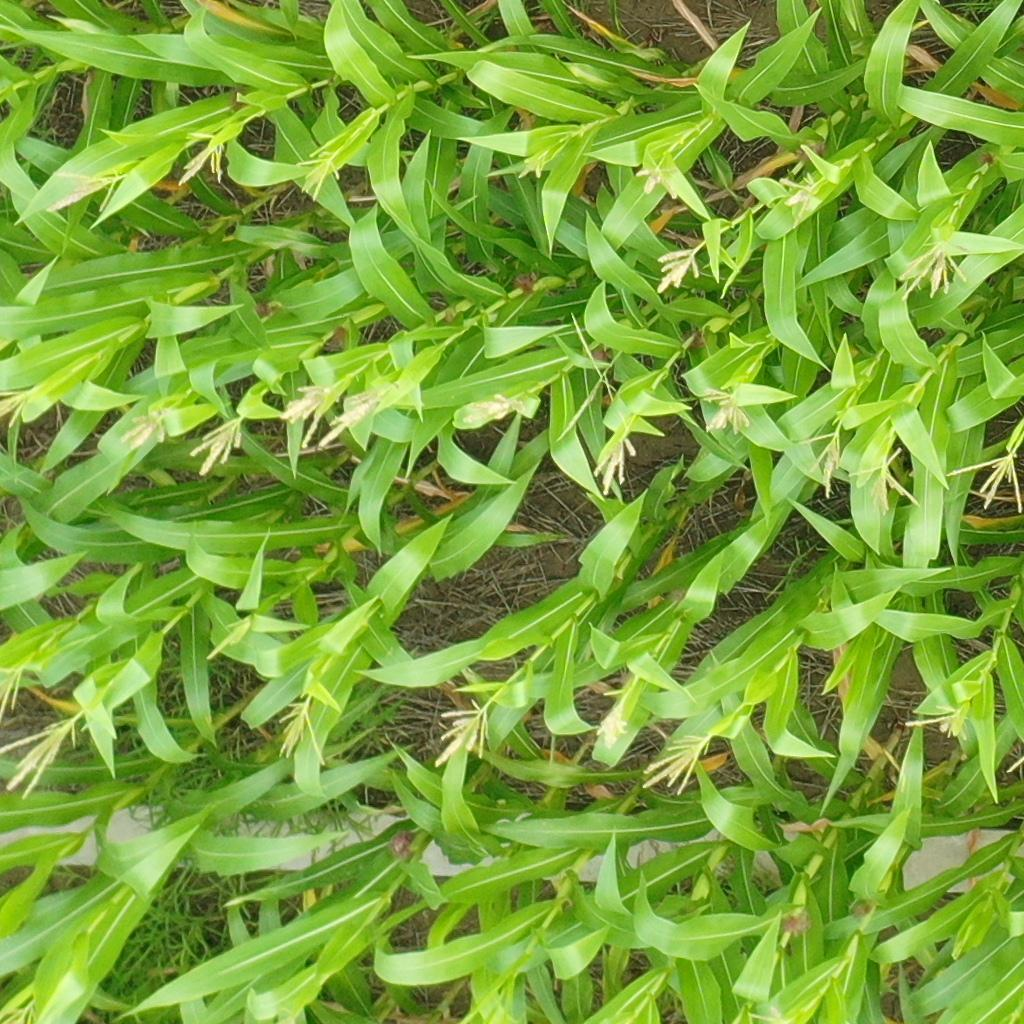Tassel: (1, 714, 85, 799), (847, 444, 920, 519), (948, 451, 1024, 514), (640, 734, 712, 798), (895, 234, 969, 294), (44, 169, 128, 218), (320, 391, 388, 450), (435, 699, 493, 766), (189, 413, 249, 476), (273, 693, 325, 764), (278, 381, 332, 448), (174, 130, 230, 192), (794, 430, 845, 498), (655, 238, 709, 297), (902, 701, 970, 745), (293, 144, 339, 205), (592, 435, 636, 496), (775, 167, 822, 224), (463, 391, 528, 432), (700, 385, 750, 435), (120, 403, 172, 449), (207, 617, 256, 658), (636, 157, 682, 200), (1, 664, 32, 727), (593, 699, 630, 749), (1, 385, 34, 424), (517, 149, 548, 181), (1, 999, 36, 1024)
